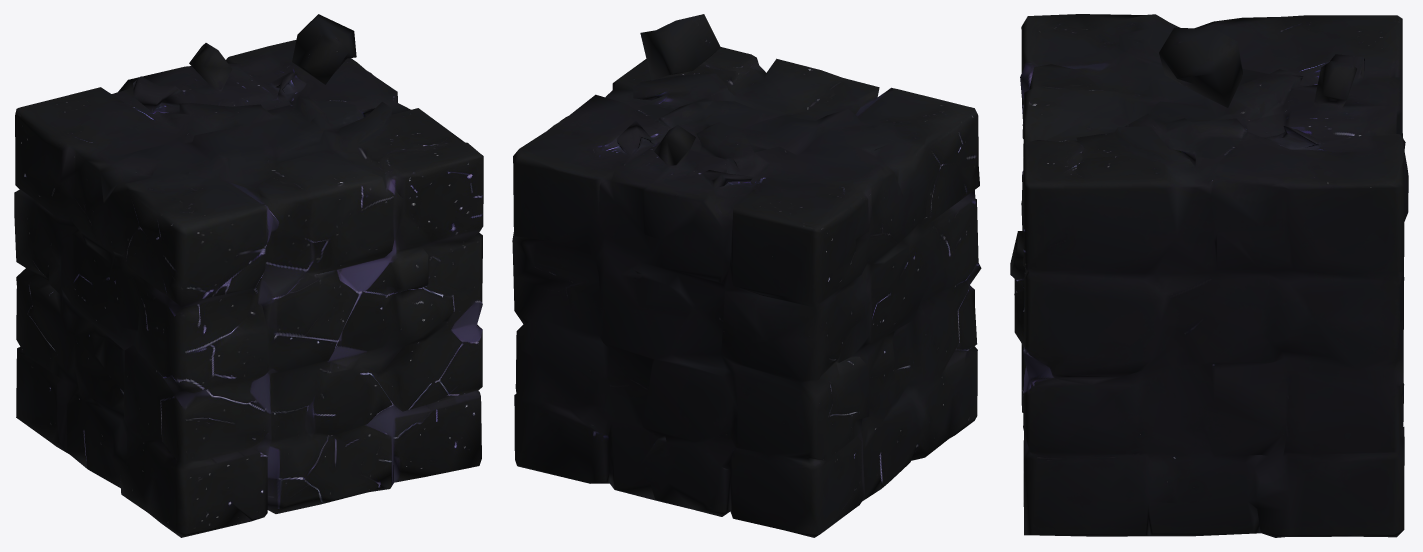
The model's file is Wall_C4_C.glb.
3 renders of one model, left to right at view 1: azimuth 30°, elevation 25°; view 2: azimuth 150°, elevation 25°; view 3: azimuth 270°, elevation 25°, orthographic. The views are drawn at different scales.
Visible parts, largest first — view 1: tripo_node_1c09e72e-6bd6-453b-8c42-72e0ca0ecf2f; view 2: tripo_node_1c09e72e-6bd6-453b-8c42-72e0ca0ecf2f; view 3: tripo_node_1c09e72e-6bd6-453b-8c42-72e0ca0ecf2f.
Boxes of the visible parts, x1,y1,x2,y2 form: tripo_node_1c09e72e-6bd6-453b-8c42-72e0ca0ecf2f: (14,14,483,537); tripo_node_1c09e72e-6bd6-453b-8c42-72e0ca0ecf2f: (512,14,981,537); tripo_node_1c09e72e-6bd6-453b-8c42-72e0ca0ecf2f: (1010,14,1408,537).
Size of the model in its own units: 0.8032 by 1 by 0.7777.
Materials: 1 (1 with a texture image).
